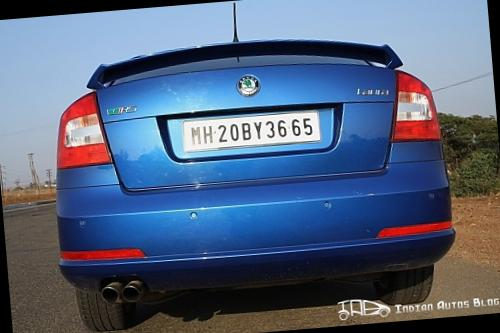plate: (161, 92, 349, 170)
